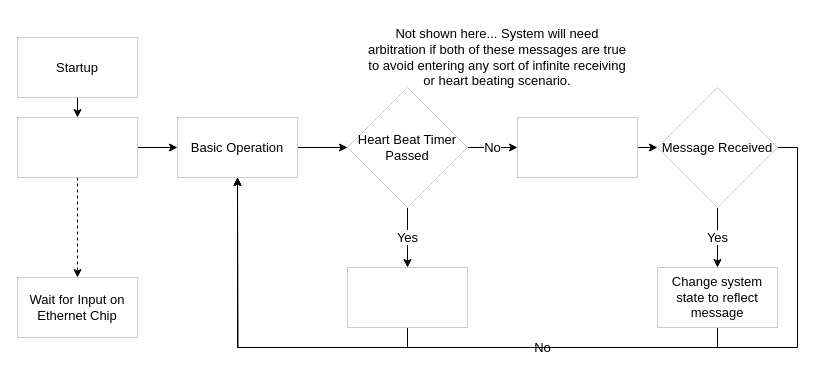
This 823x373 diagram has some shape labels left out. The centre of each missing label's shape, as x and y in pixels:
"Create Interrupt Server" goes at (x=77, y=147).
"Load Input Data from Ethernet Chip" goes at (x=577, y=147).
"Send Heartbeat. Ask for queued outputs" goes at (x=407, y=297).
